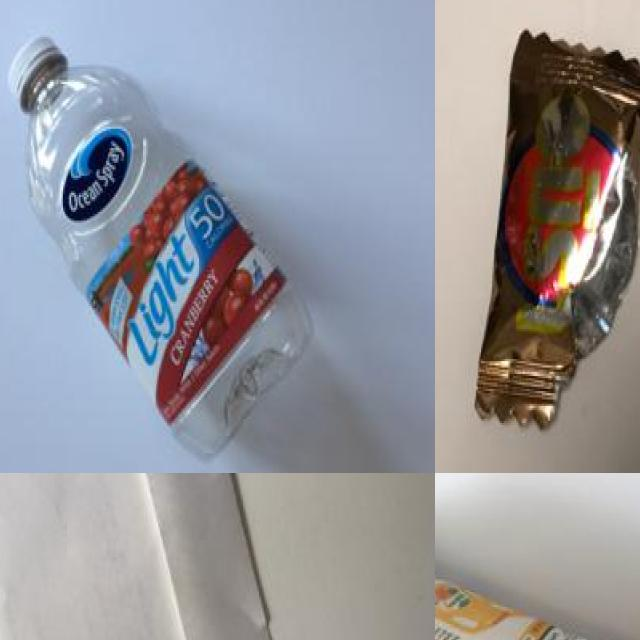paper: (0, 473, 295, 640), (435, 536, 640, 640)
plastic: (3, 26, 329, 458)
trash: (462, 14, 640, 456)
